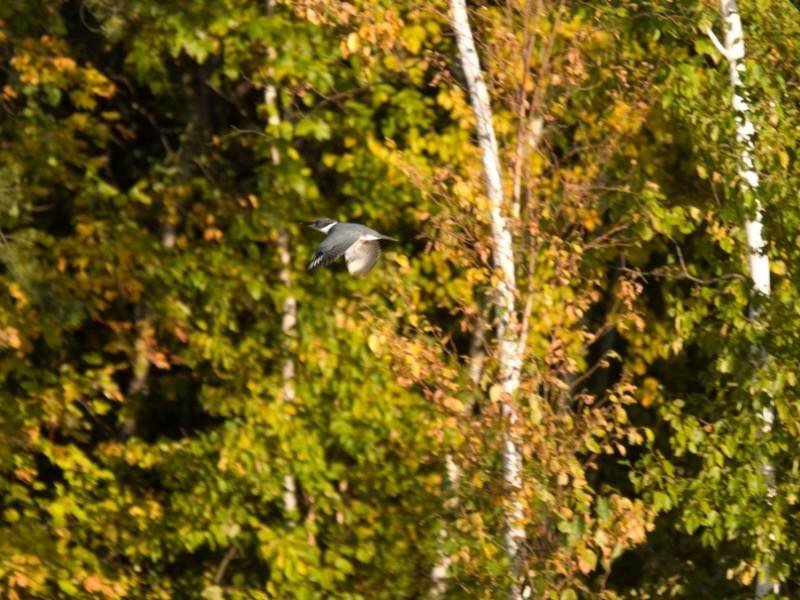kingfisher: (302, 215, 400, 278)
